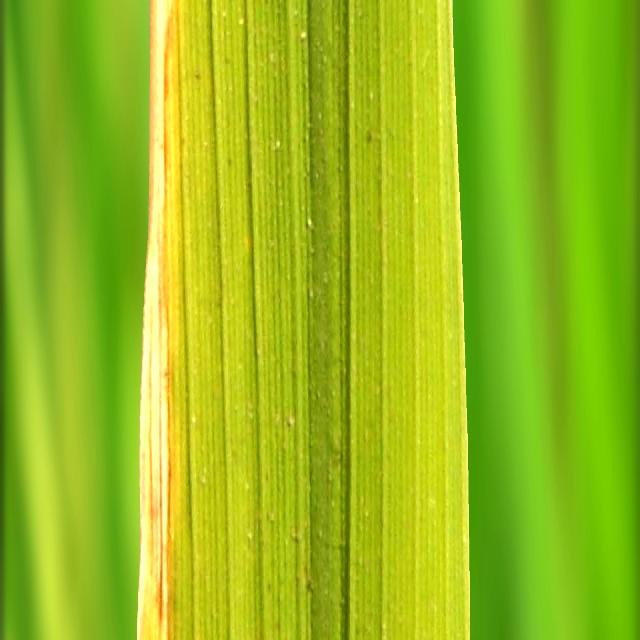BLS: (137, 0, 182, 640)
